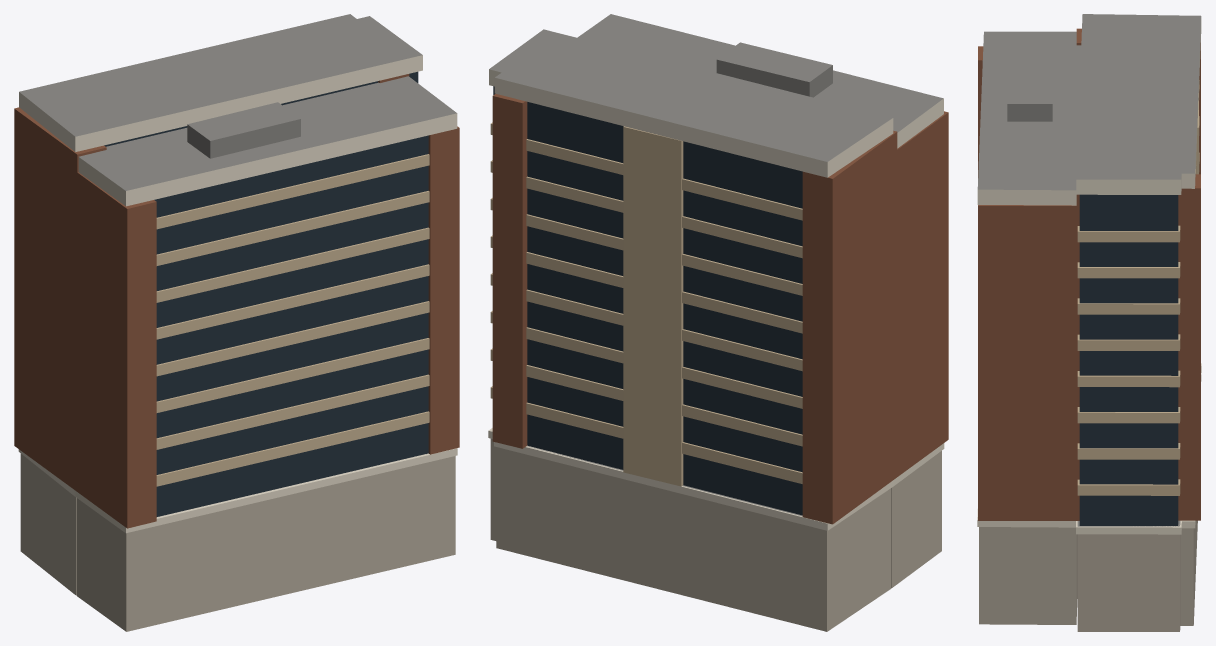
The model's file is springhill_suites_by_m_w313762434.glb.
3 renders of one model, left to right at view 1: azimuth 30°, elevation 25°; view 2: azimuth 150°, elevation 25°; view 3: azimuth 270°, elevation 25°, orthographic. The views are drawn at different scales.
Visible parts, largest first — view 1: Hotel_Slab; view 2: Hotel_Slab; view 3: Hotel_Slab.
Part boxes in pixels (box(x1,y1,x2,y2)): Hotel_Slab: box(14, 14, 459, 631); Hotel_Slab: box(488, 14, 948, 631); Hotel_Slab: box(977, 14, 1201, 631).
Bounding box in the file's own units: 61.06 × 77.5 × 34.78.
